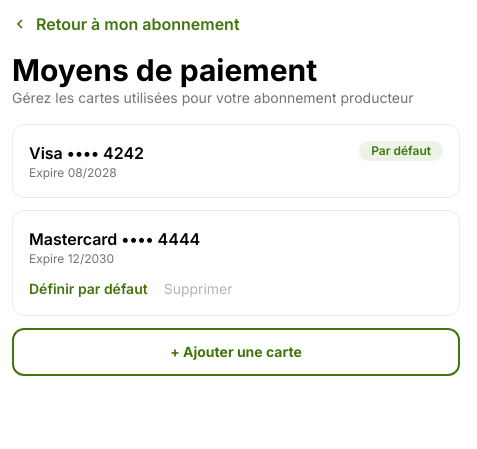
PaymentMethodsComponent › choisit une autre carte par défaut puis recharge la liste
Click the button "Définir par défaut": (88, 289) 29,279 -> 148,299
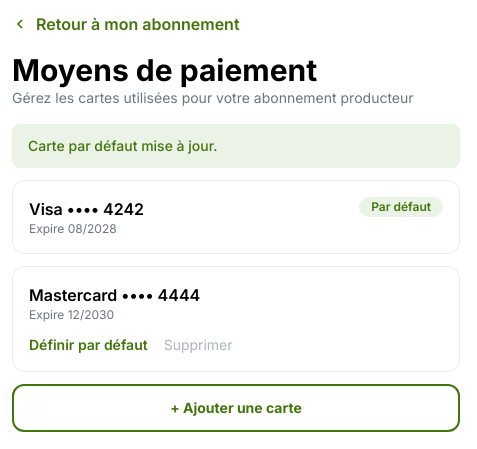
Check: the text "Carte par défaut mise à jour." is shown, box 12,124 -> 460,168
